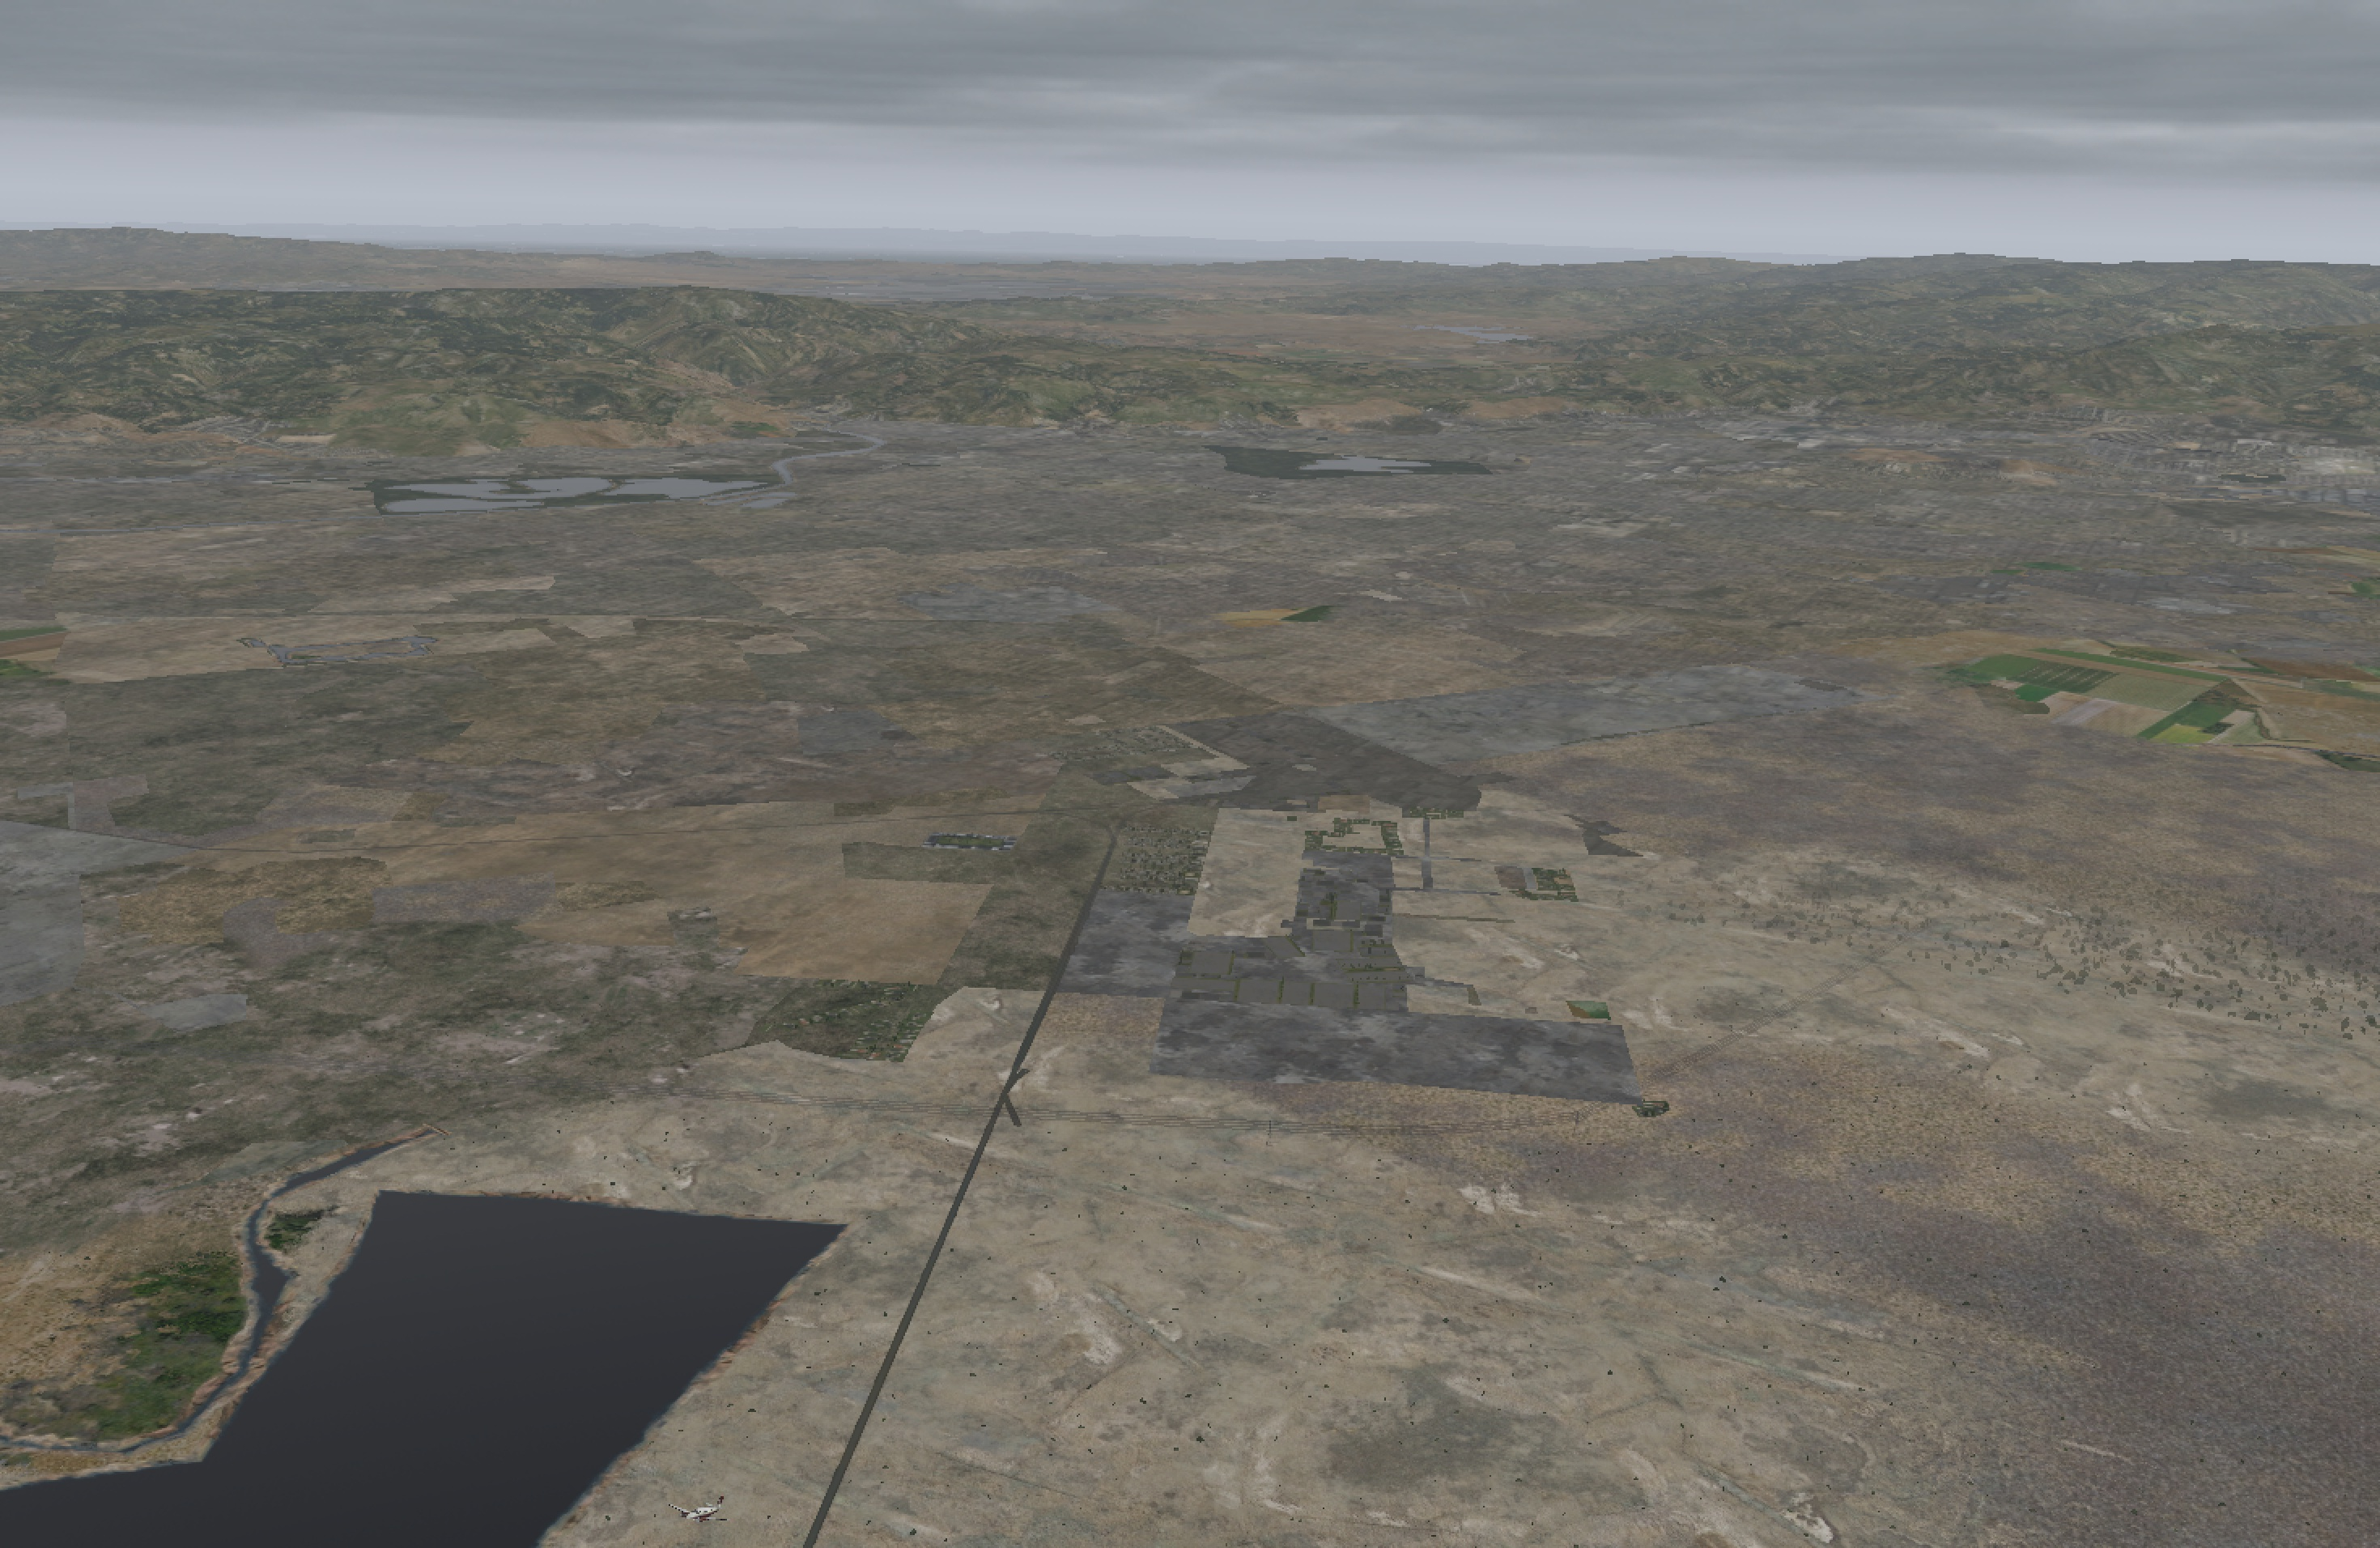aircraft: (659, 1503, 736, 1532)
